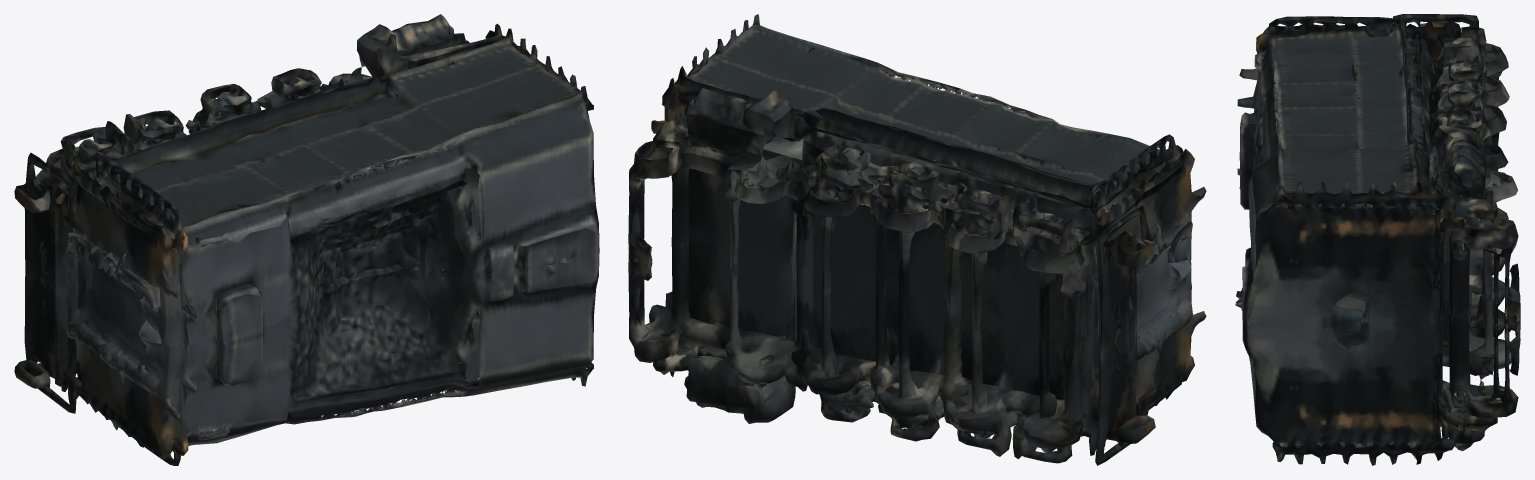
Rendered from big_boy_tender.glb.
3 views of the same model, side by side, from view 1: azimuth 30°, elevation 25°; view 2: azimuth 150°, elevation 25°; view 3: azimuth 270°, elevation 25° (orthographic). The views are drawn at different scales.
Parts seen in each view (by area): view 1: part_tender; view 2: part_tender; view 3: part_tender.
Boxes of the visible parts, <box> form: part_tender: <box>14,14,599,465</box>; part_tender: <box>628,14,1206,465</box>; part_tender: <box>1235,14,1520,465</box>.
Bounding box in the file's own units: 7.26 × 4.69 × 4.03.
1 material, 1 textured.
